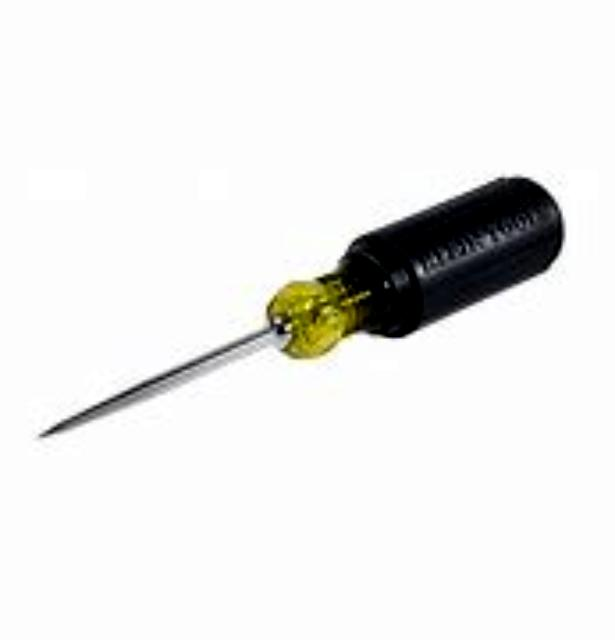ice pick: (33, 174, 566, 444)
